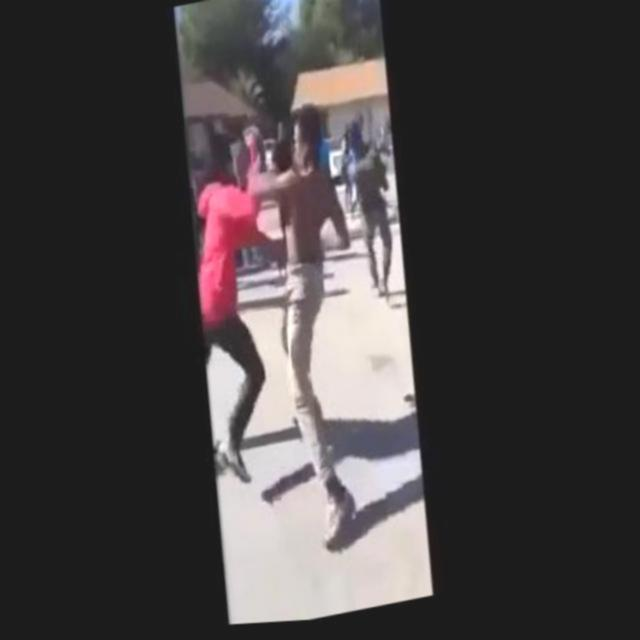fight: (170, 96, 403, 580)
